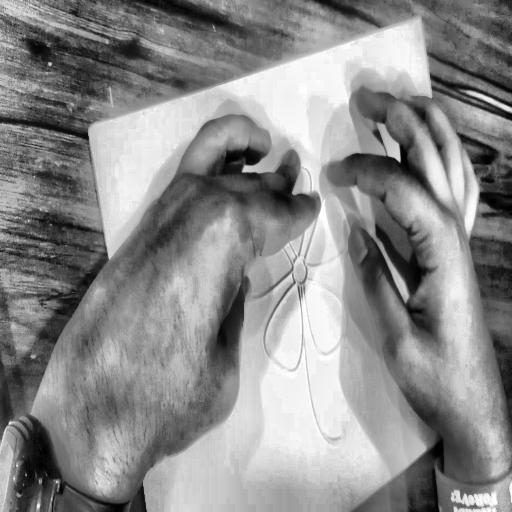bottom_right: (474, 391, 484, 406)
flower: (217, 132, 401, 499)
top_left: (85, 119, 98, 144)
top_right: (415, 9, 424, 25)
